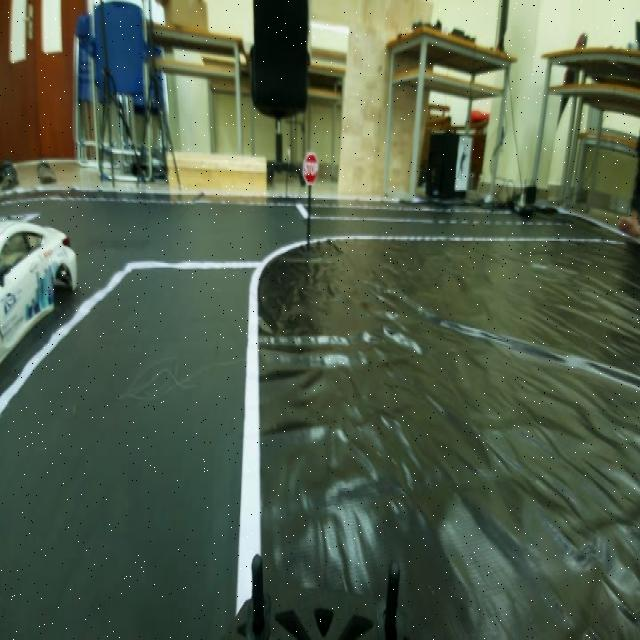stop: (298, 147, 322, 190)
